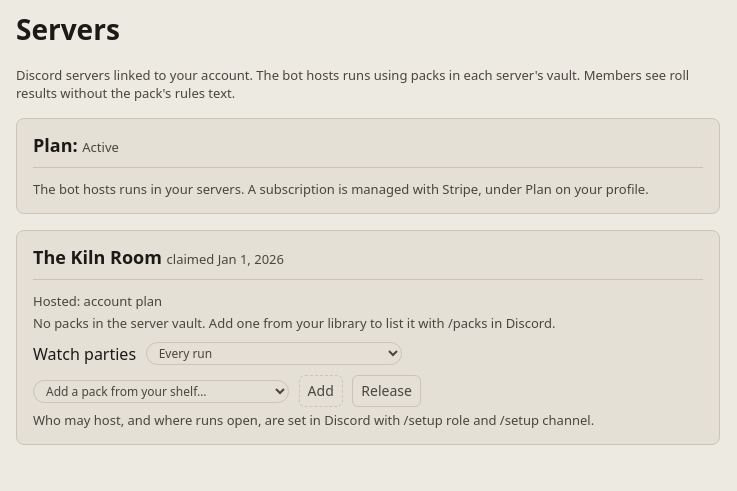
Test: the watch party setting on a server › shows nothing to choose from until the mode is chosen packs
Expected: the field labelled "The Long Kiln" is not shown
Step 1. Select "Chosen packs" in the dropdown labelled "Watch parties" → (274, 354), box [146, 342, 402, 365]
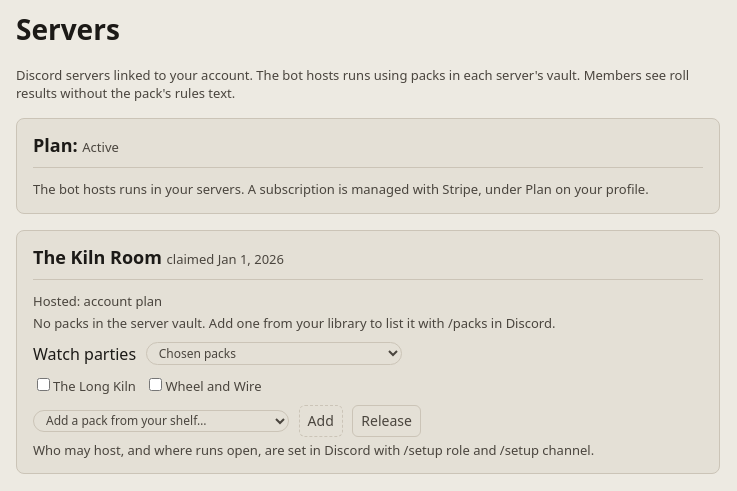
Expected: the checkbox labelled "The Long Kiln" is shown, [37, 378, 50, 391]
